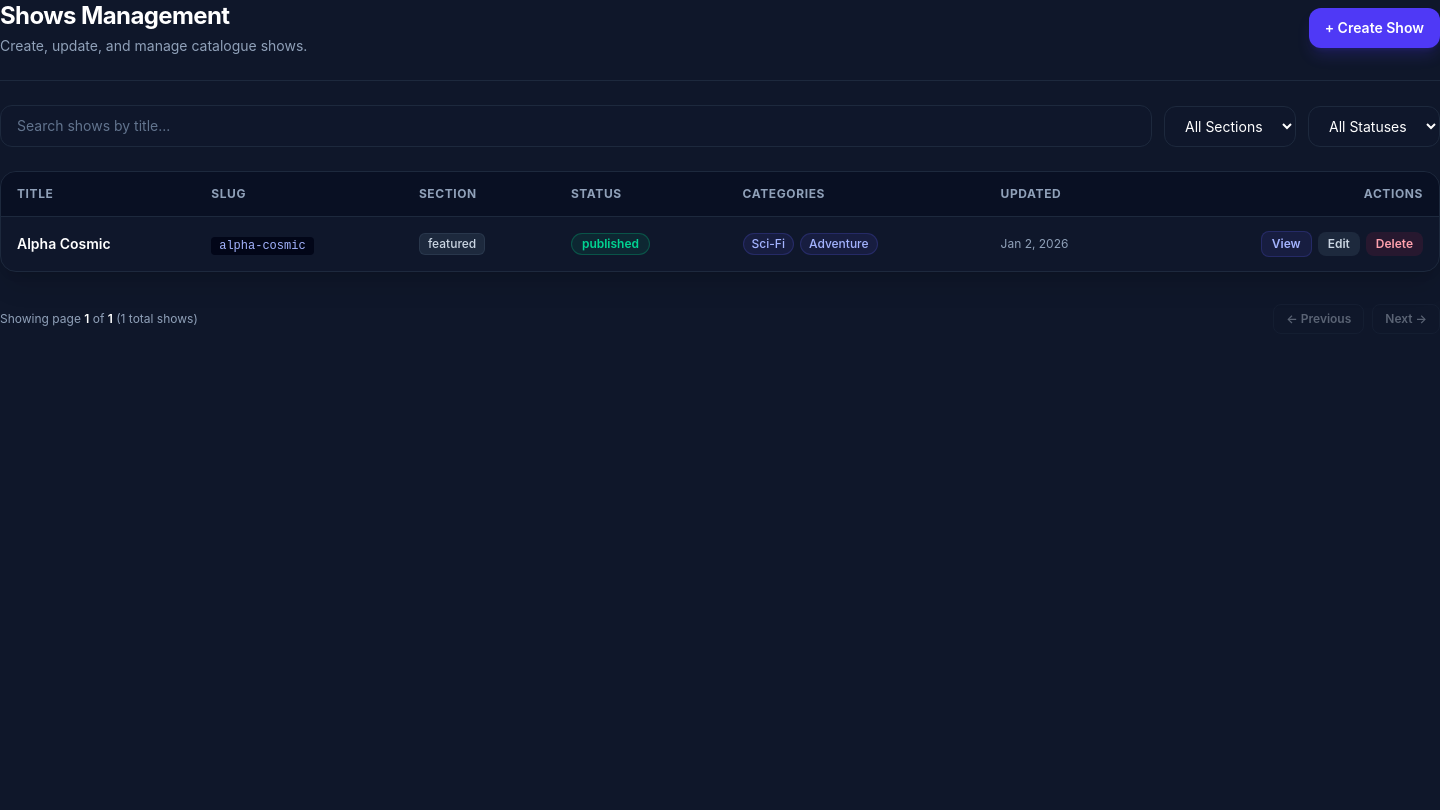
Test: Shows Management Page › edits a show with partial updates
The image size is (1440, 810).
Expected: the link "Alpha Cosmic" is shown, [17,235,111,252]
Click the button with test id "edit-show-1" at [1339, 244], box [1318,232,1360,256]
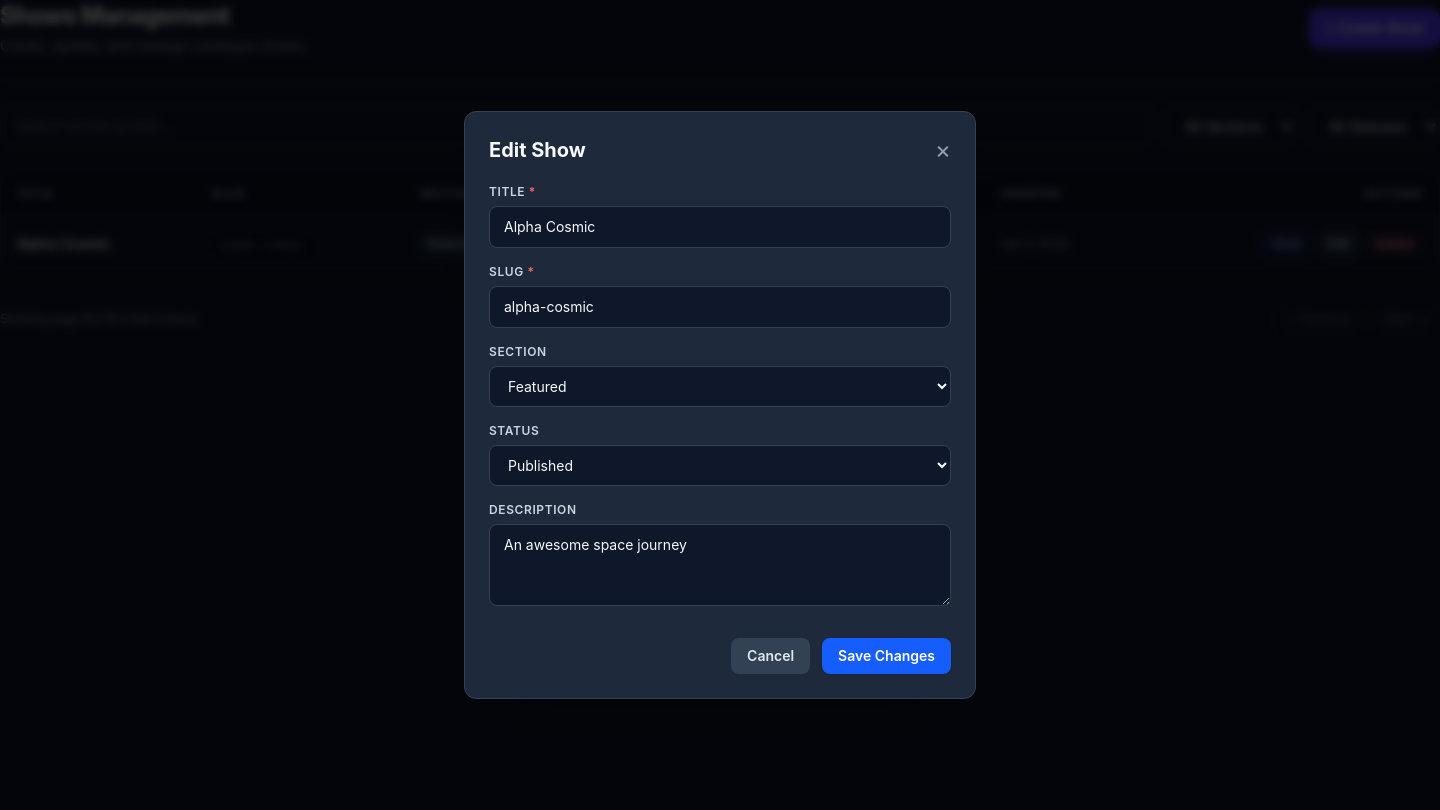
Expected: the field labelled "Title *" holds "Alpha Cosmic"
Replace the text in the field labelled "Title *" with "Alpha Cosmic Updated" at [720, 227], box [489,206,951,248]
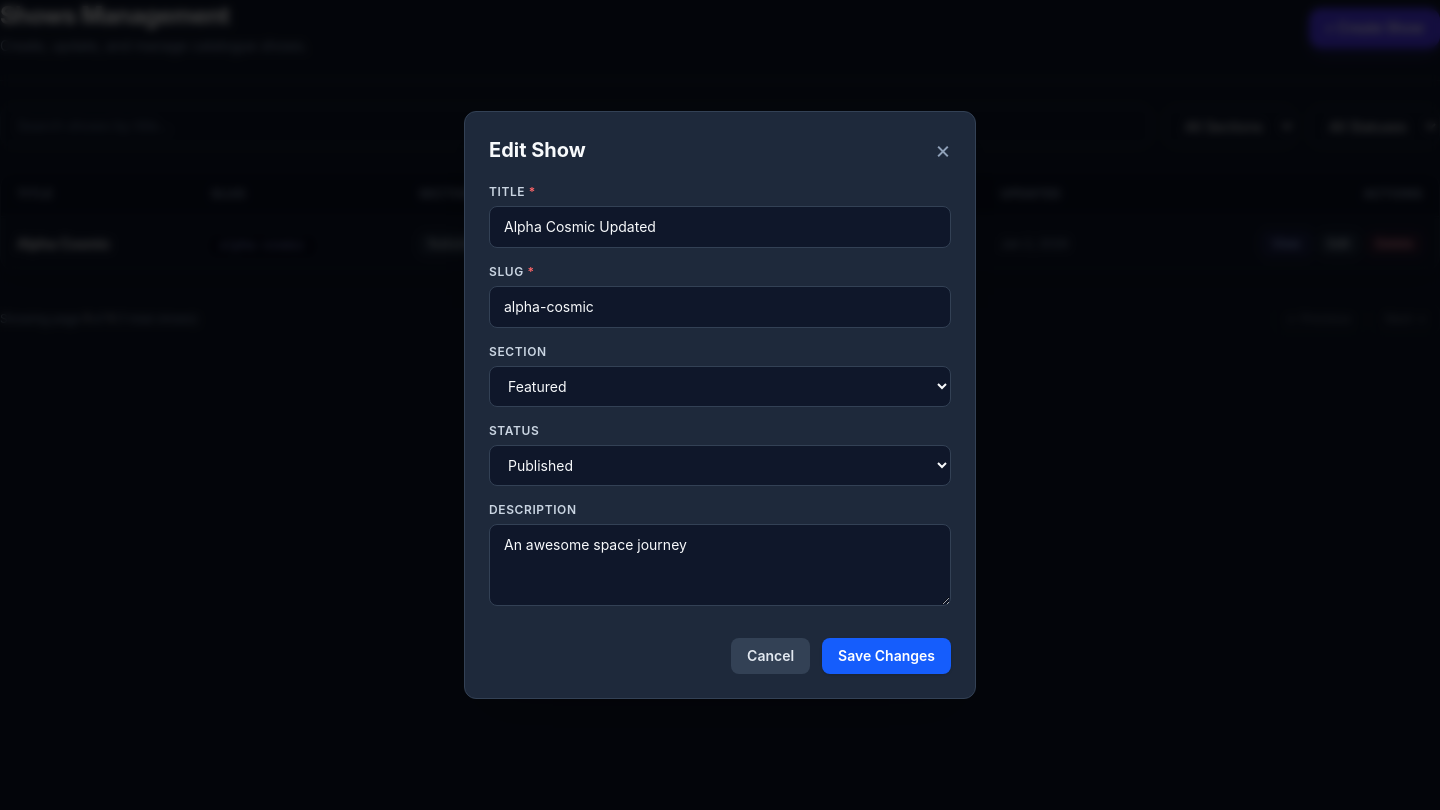
Click the button with test id "save-show-btn" at [887, 656], box [822,638,951,674]
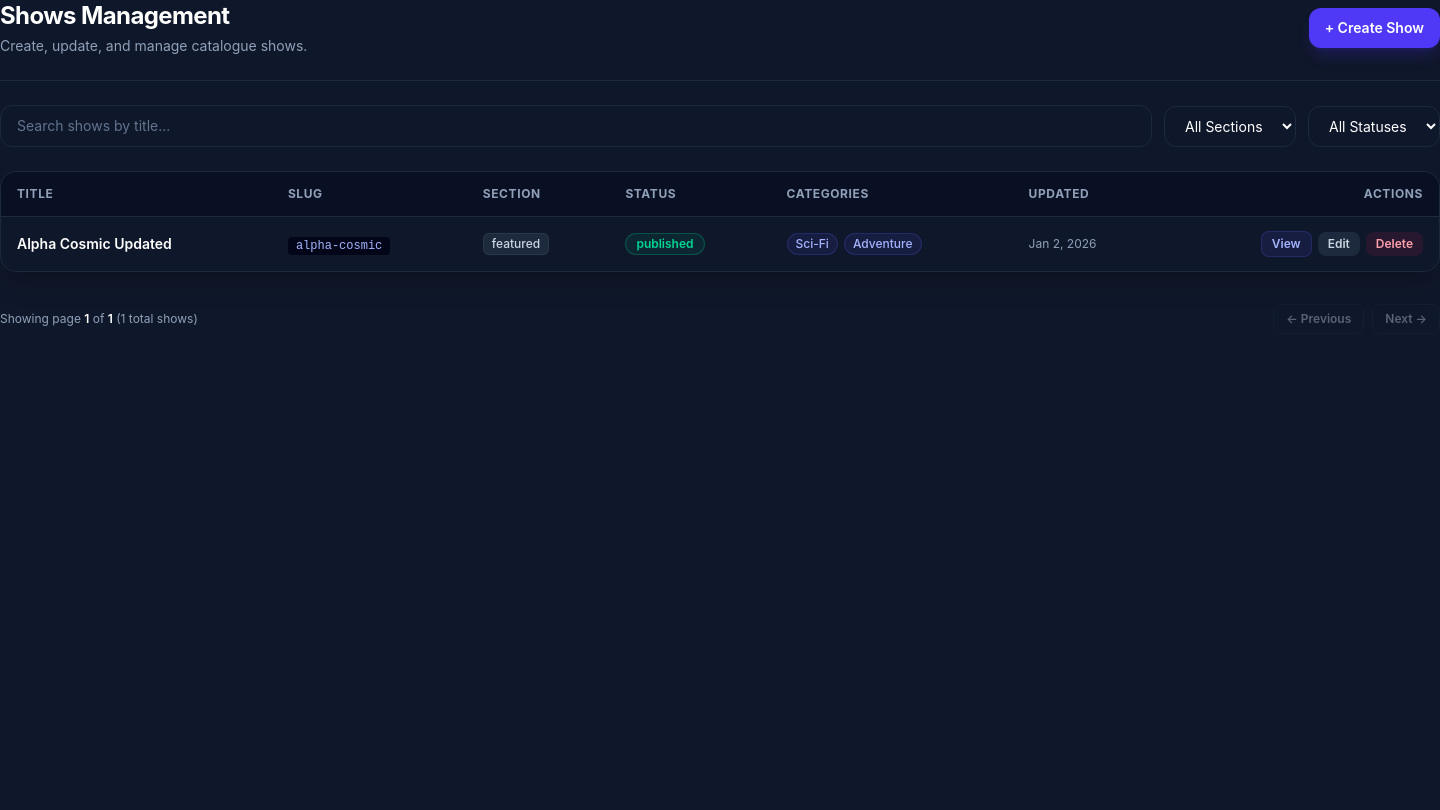
Expected: the link "Alpha Cosmic Updated" is shown, [17,235,172,252]
